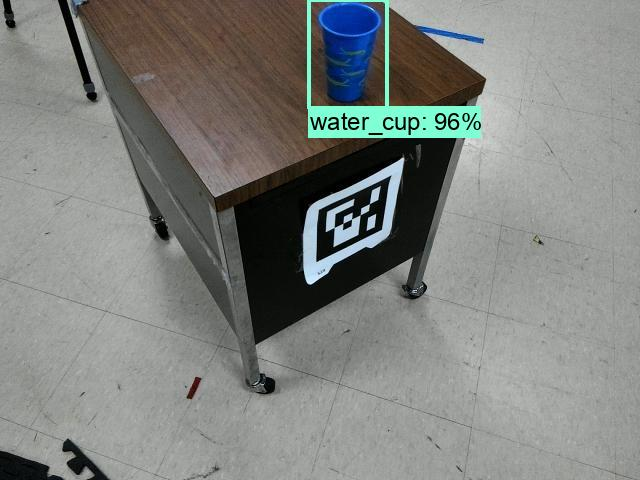water_cup: (305, 1, 392, 114)
